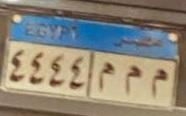4: (68, 53, 88, 93), (9, 49, 26, 85), (49, 53, 65, 90), (29, 50, 45, 87)
meem: (97, 58, 116, 94), (122, 64, 142, 96), (150, 66, 168, 100)
